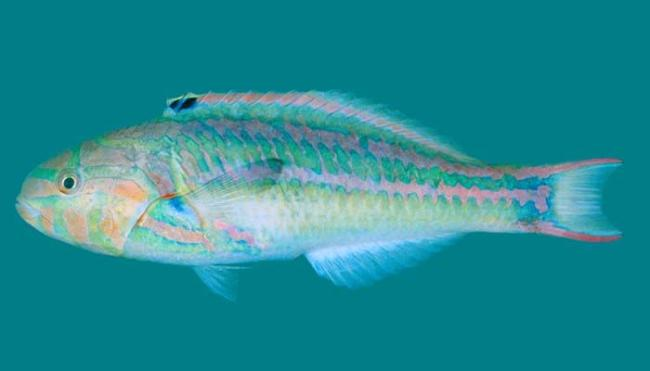fish: (14, 85, 626, 302)
